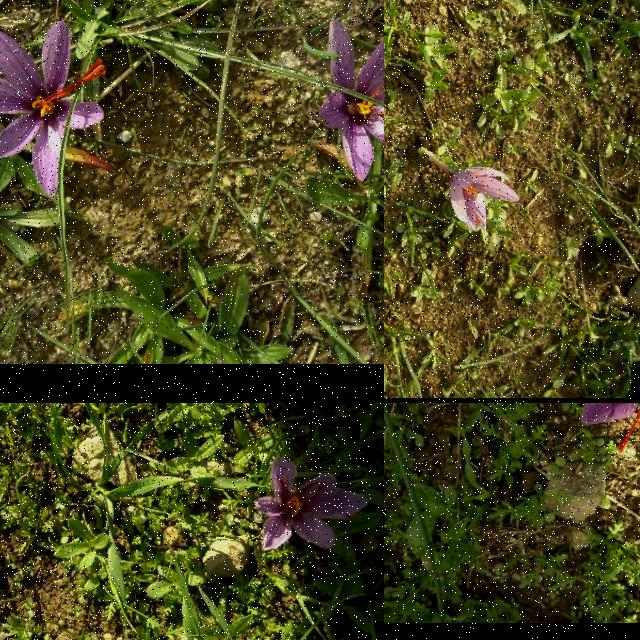flower: (0, 20, 105, 197), (254, 458, 370, 550), (319, 17, 384, 181), (448, 165, 522, 232)
